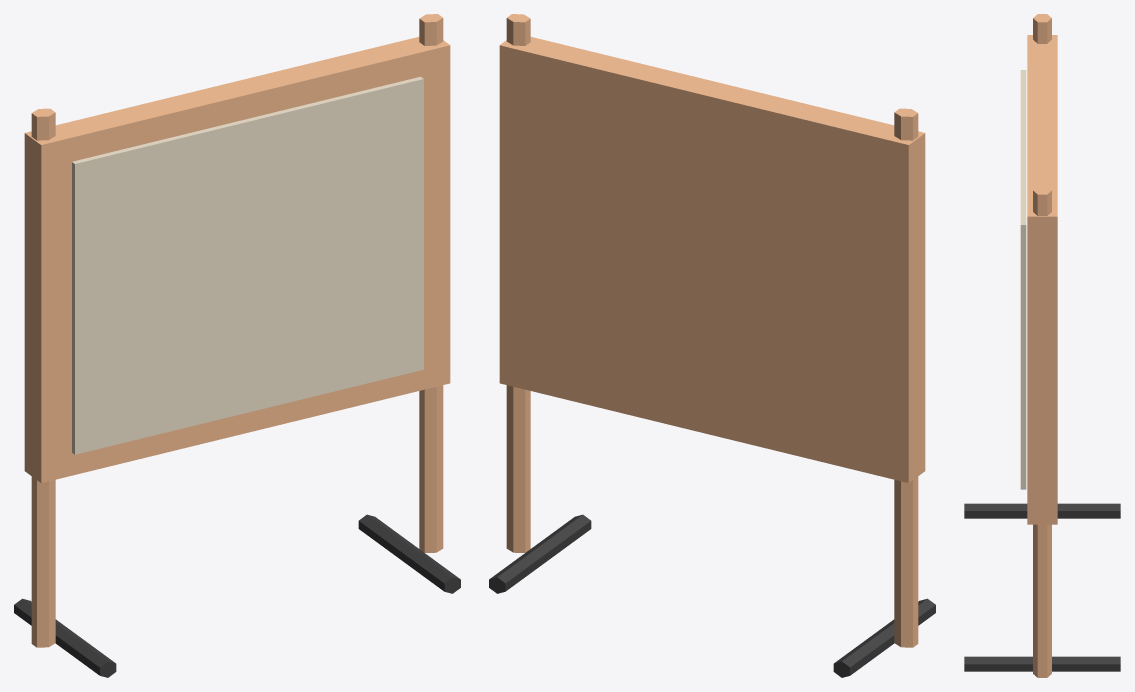
3 renders of one model, left to right at view 1: azimuth 30°, elevation 25°; view 2: azimuth 150°, elevation 25°; view 3: azimuth 270°, elevation 25°, orthographic. The views are drawn at different scales.
Visible parts, largest first — view 1: Art surface, Frame, Support, Support.001, Foot.001, Foot; view 2: Frame, Support, Support.001, Foot.001, Foot; view 3: Frame, Support.001, Art surface, Foot.001, Foot, Support.
Boxes of the visible parts, box(x1,y1,x2,y2) form: Art surface: box(72, 76, 423, 454); Frame: box(24, 37, 450, 482); Support: box(31, 108, 55, 647); Support.001: box(419, 14, 443, 552); Foot.001: box(358, 514, 460, 593); Foot: box(14, 598, 116, 677); Frame: box(499, 37, 925, 482); Support: box(894, 108, 918, 647); Support.001: box(506, 14, 530, 552); Foot.001: box(489, 514, 591, 593); Foot: box(833, 598, 935, 677); Frame: box(1027, 35, 1057, 524); Support.001: box(1033, 186, 1051, 677); Art surface: box(1020, 70, 1026, 489); Foot.001: box(964, 656, 1120, 671); Foot: box(964, 503, 1120, 518); Support: box(1033, 14, 1051, 43).
Bounding box in the file's own units: 1.14 × 1.44 × 0.414.
1 material, 1 textured.
